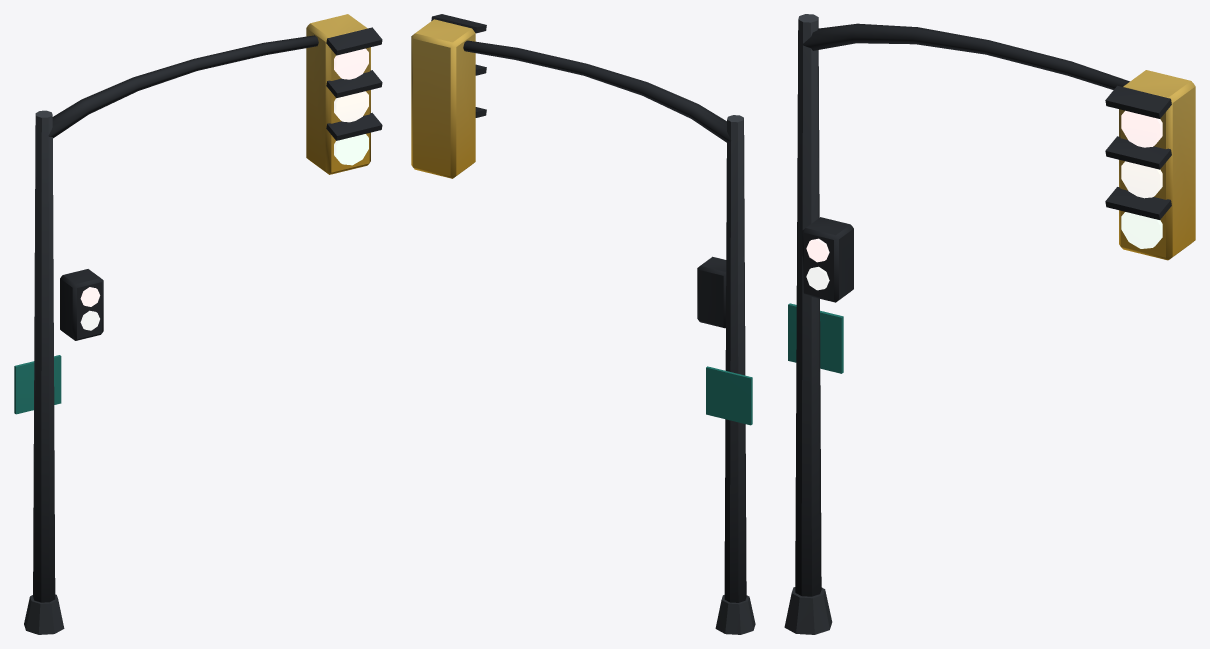
Rendered from semaforo.glb.
3 renders of one model, left to right at view 1: azimuth 30°, elevation 25°; view 2: azimuth 150°, elevation 25°; view 3: azimuth 330°, elevation 25°, orthographic. The views are drawn at different scales.
Parts seen in each view (by area): view 1: semaforo; view 2: semaforo; view 3: semaforo.
Boxes of the visible parts, x1,y1,x2,y2 form: semaforo: (14,14,382,634); semaforo: (411,14,755,634); semaforo: (784,14,1195,634).
Bounding box in the file's own units: 3.75 × 5.58 × 0.6294.
